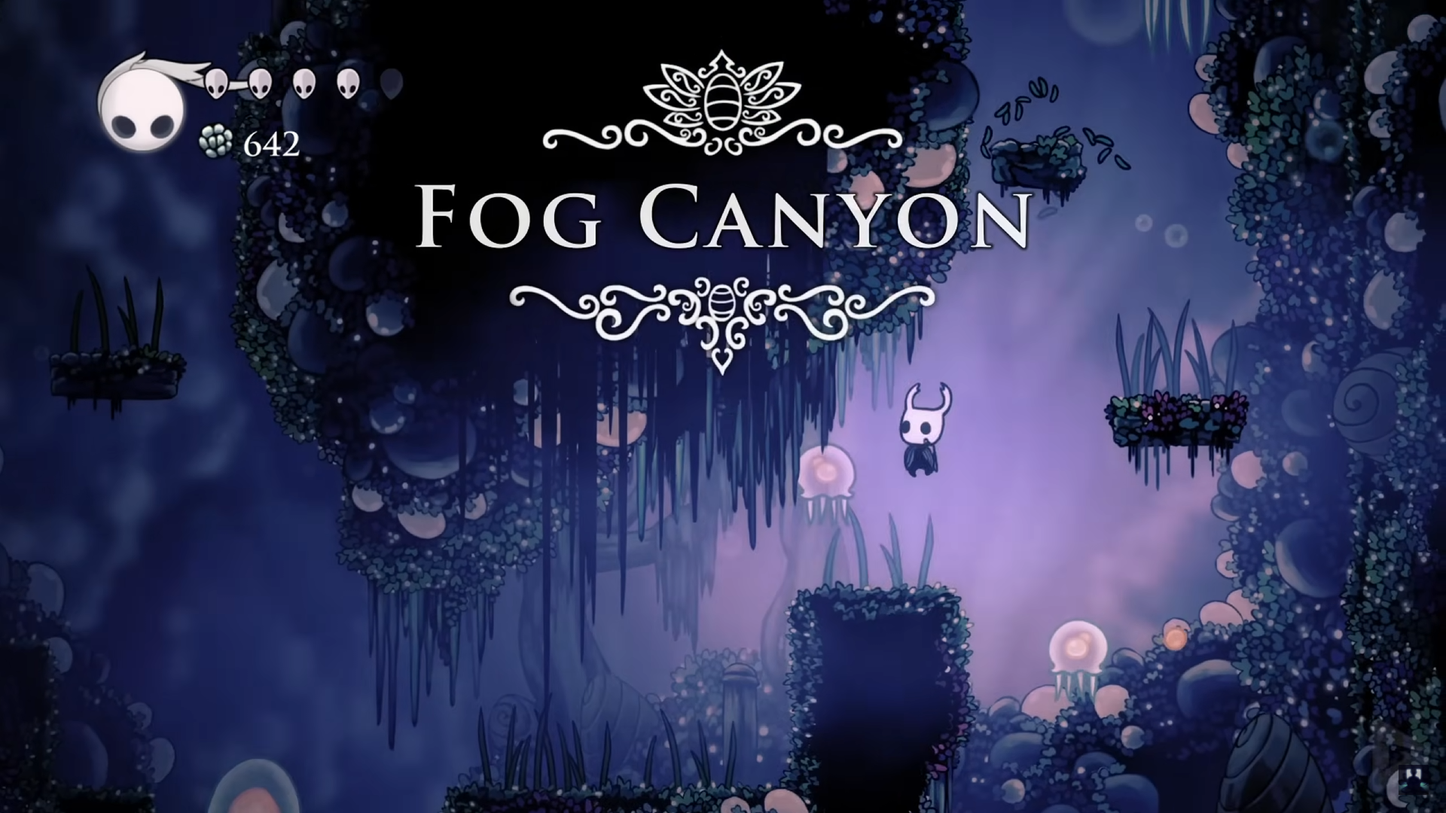HK: (890, 377, 956, 481)
